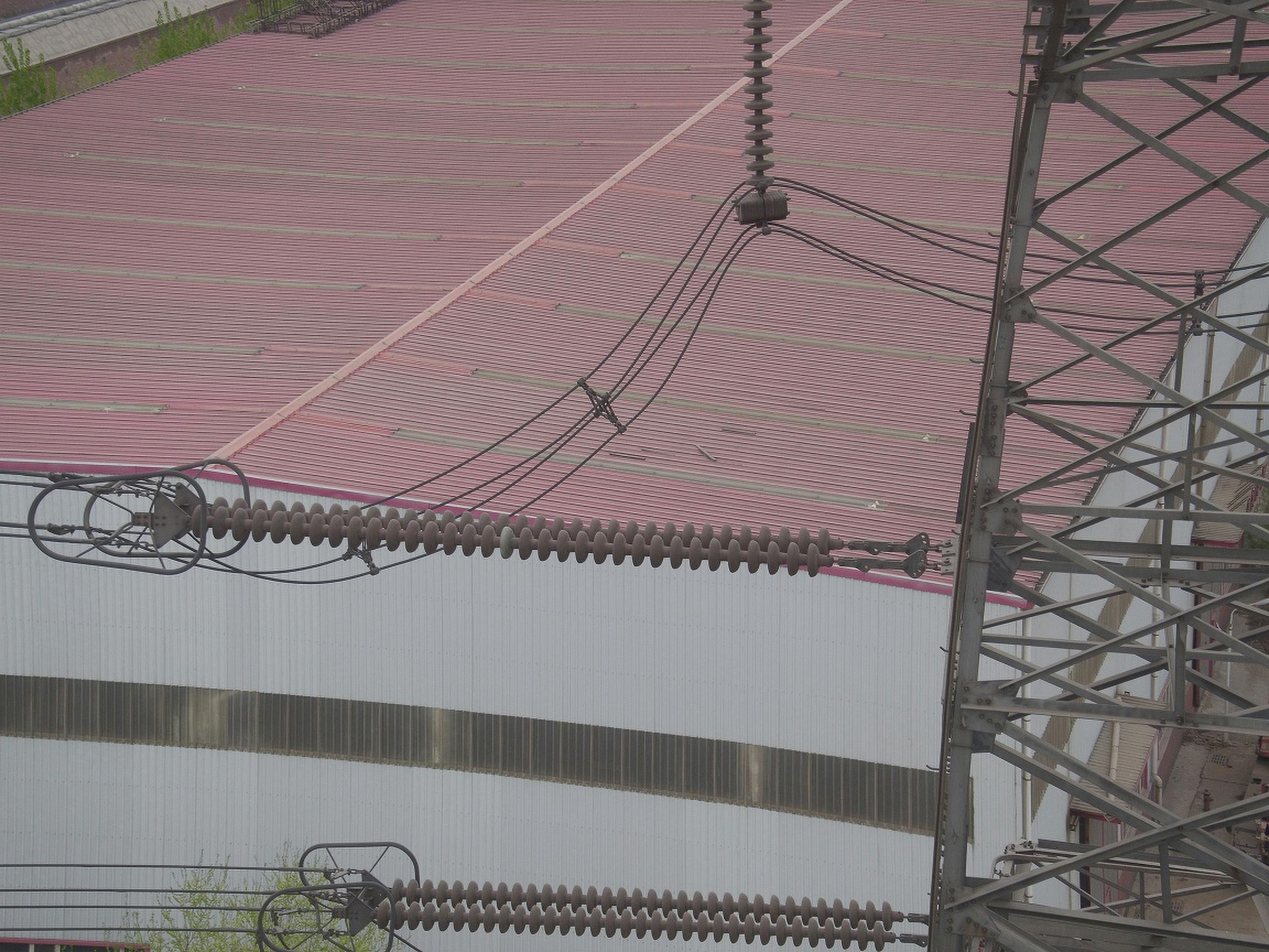insulator: (187, 493, 837, 581), (374, 877, 896, 952), (740, 1, 779, 191)
